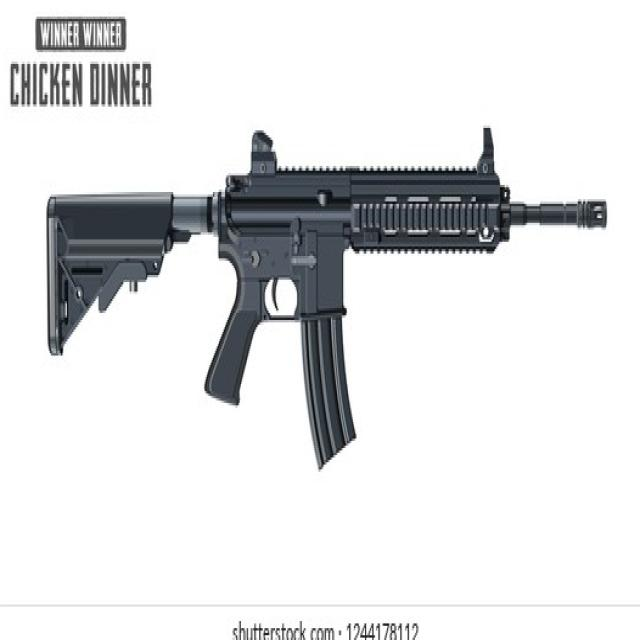Weapon: (47, 128, 606, 465)
